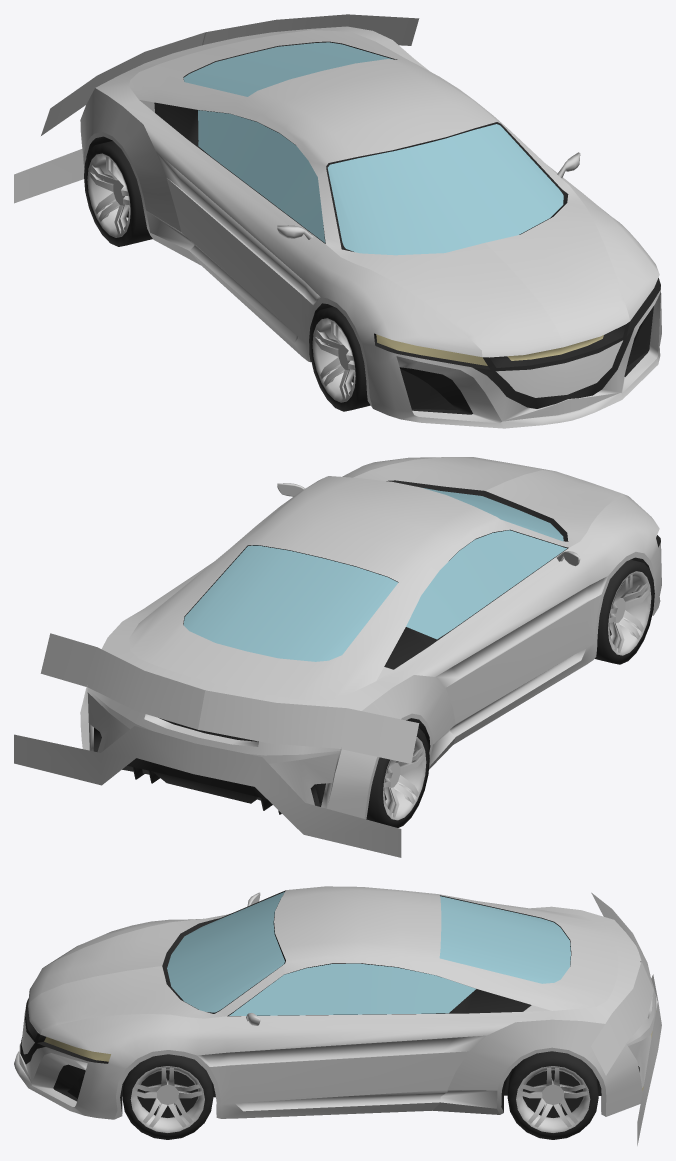
Rendered from Car High.fbx.
The picture shows the model from 3 angles, top to bottom: view 1: azimuth 30°, elevation 25°; view 2: azimuth 150°, elevation 25°; view 3: azimuth 270°, elevation 25°; orthographic projection. The views are drawn at different scales.
Parts seen in each view (by area): view 1: body5, glow5, wheel_BR, wheel_FR; view 2: body5, glow5, wheel_FR, wheel_BR; view 3: body5, wheel_BL, wheel_FL, glow5.
Boxes of the visible parts, x1,y1,x2,y2 form: body5: (80, 26, 661, 428); glow5: (14, 14, 419, 203); wheel_BR: (84, 141, 152, 246); wheel_FR: (309, 306, 370, 411); body5: (80, 457, 661, 819); glow5: (14, 633, 419, 857); wheel_FR: (595, 559, 654, 664); wheel_BR: (366, 727, 429, 827); body5: (14, 886, 657, 1119); wheel_BL: (507, 1051, 598, 1139); wheel_FL: (122, 1054, 213, 1139); glow5: (591, 892, 661, 1145).
Size of the model in its own units: 2.75 by 1.31 by 4.65.
